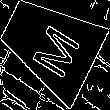M_NW: (20, 12, 80, 77)
